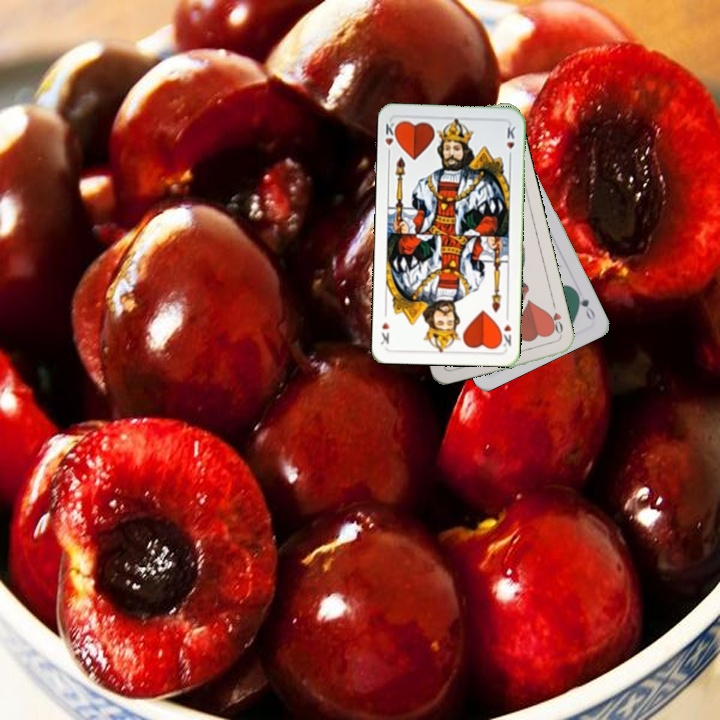GO: (571, 287, 598, 323)
HK: (381, 118, 400, 158), (496, 310, 514, 349)
HO: (544, 299, 565, 340)
